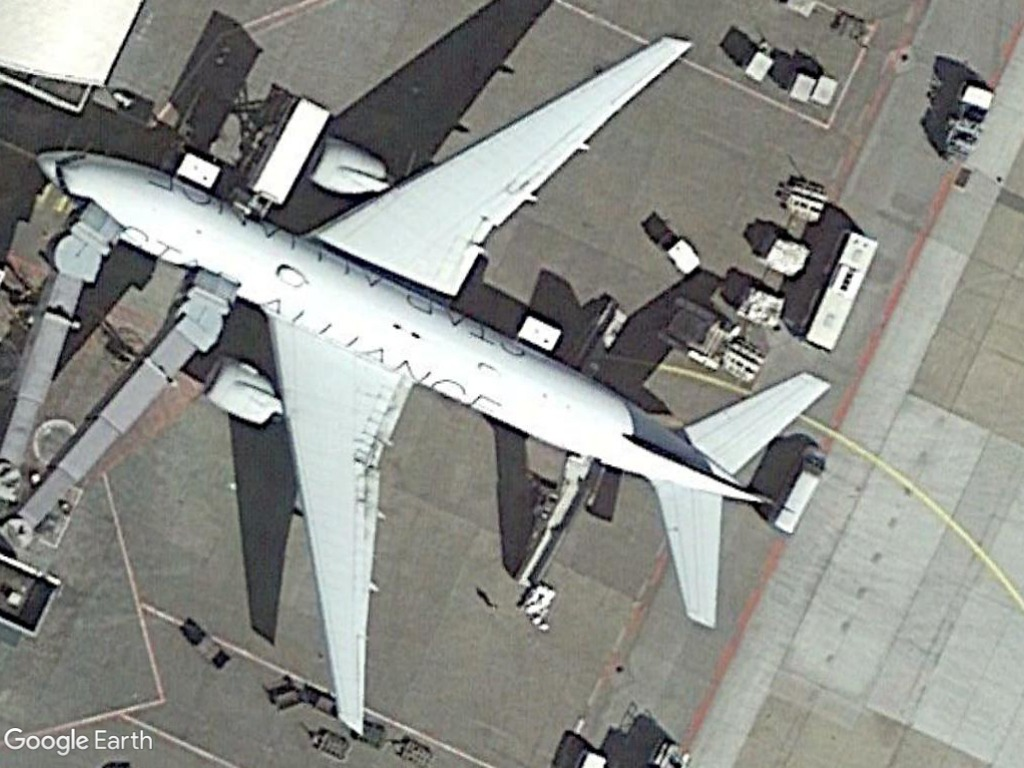airliner: (44, 24, 830, 736)
bus: (797, 226, 880, 356)
